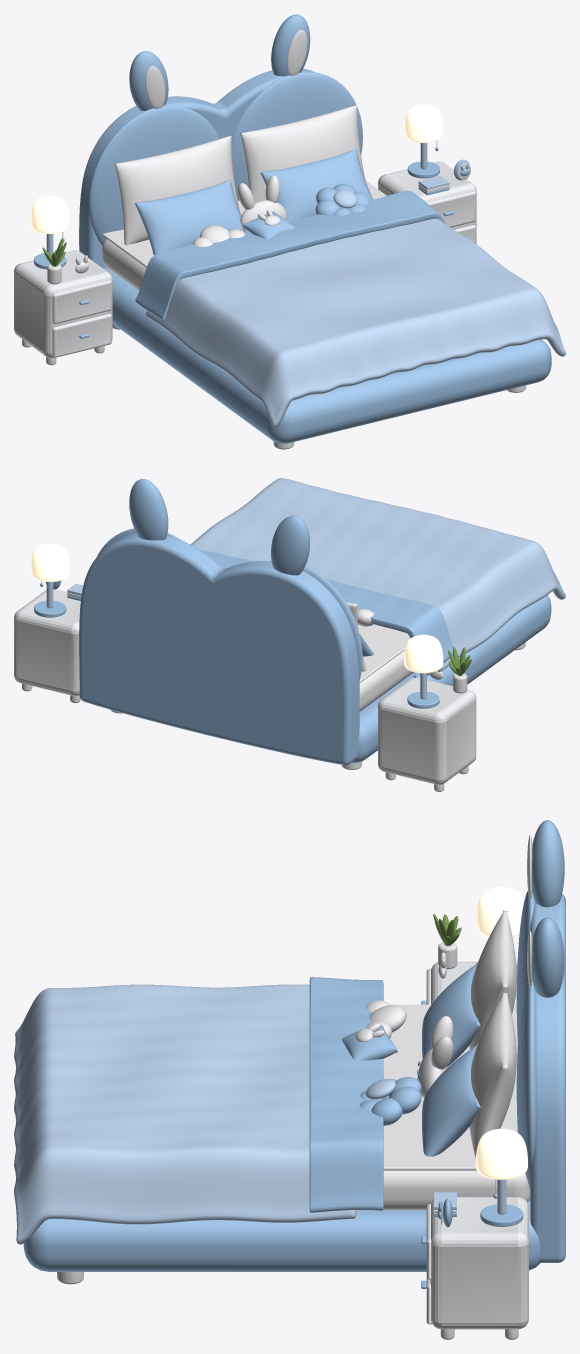
File: Bed.fbx
The picture shows the model from 3 angles, top to bottom: view 1: azimuth 30°, elevation 25°; view 2: azimuth 150°, elevation 25°; view 3: azimuth 270°, elevation 25°; orthographic projection. The views are drawn at different scales.
Visible parts, largest first — view 1: Bed_Upholstered_Frame; view 2: Bed_Upholstered_Frame; view 3: Bed_Upholstered_Frame.
Boxes of the visible parts, x1,y1,x2,y2 form: Bed_Upholstered_Frame: [14, 14, 565, 449]; Bed_Upholstered_Frame: [14, 478, 565, 791]; Bed_Upholstered_Frame: [14, 820, 565, 1339].
Bounding box in the file's own units: 268 × 150 × 224.
